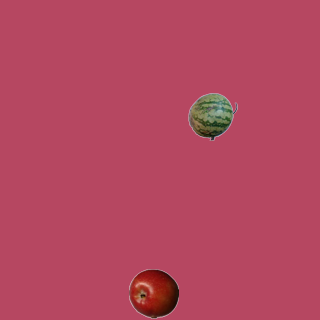Apple Braeburn: (128, 268, 178, 318)
Watermelon: (187, 91, 237, 141)
